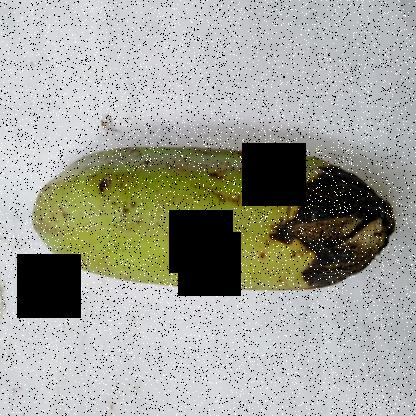rotten: (223, 141, 400, 328)
unripe: (22, 105, 291, 322)
